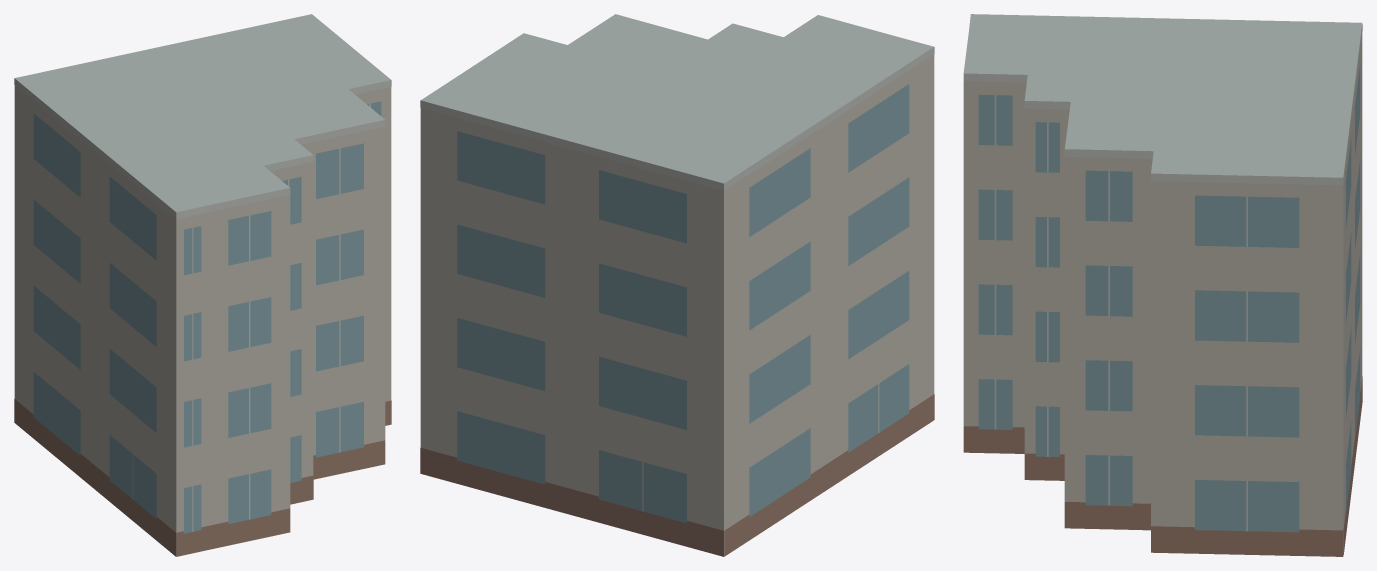
File: residential-57f8d1ad-76ef-4d7b-9bfe-0628dfe90941.glb
3 renders of one model, left to right at view 1: azimuth 30°, elevation 25°; view 2: azimuth 150°, elevation 25°; view 3: azimuth 270°, elevation 25°, orthographic. The views are drawn at different scales.
Visible parts, largest first — view 1: residential-57f8d1ad-76ef-4d7b-9bfe-0628dfe90941.tmp; view 2: residential-57f8d1ad-76ef-4d7b-9bfe-0628dfe90941.tmp; view 3: residential-57f8d1ad-76ef-4d7b-9bfe-0628dfe90941.tmp.
Boxes of the visible parts, bbox=[...] form: residential-57f8d1ad-76ef-4d7b-9bfe-0628dfe90941.tmp: bbox=[14, 14, 391, 556]; residential-57f8d1ad-76ef-4d7b-9bfe-0628dfe90941.tmp: bbox=[420, 14, 934, 556]; residential-57f8d1ad-76ef-4d7b-9bfe-0628dfe90941.tmp: bbox=[963, 14, 1362, 556].
Bounding box in the file's own units: 11.31 × 12.2 × 11.64.
